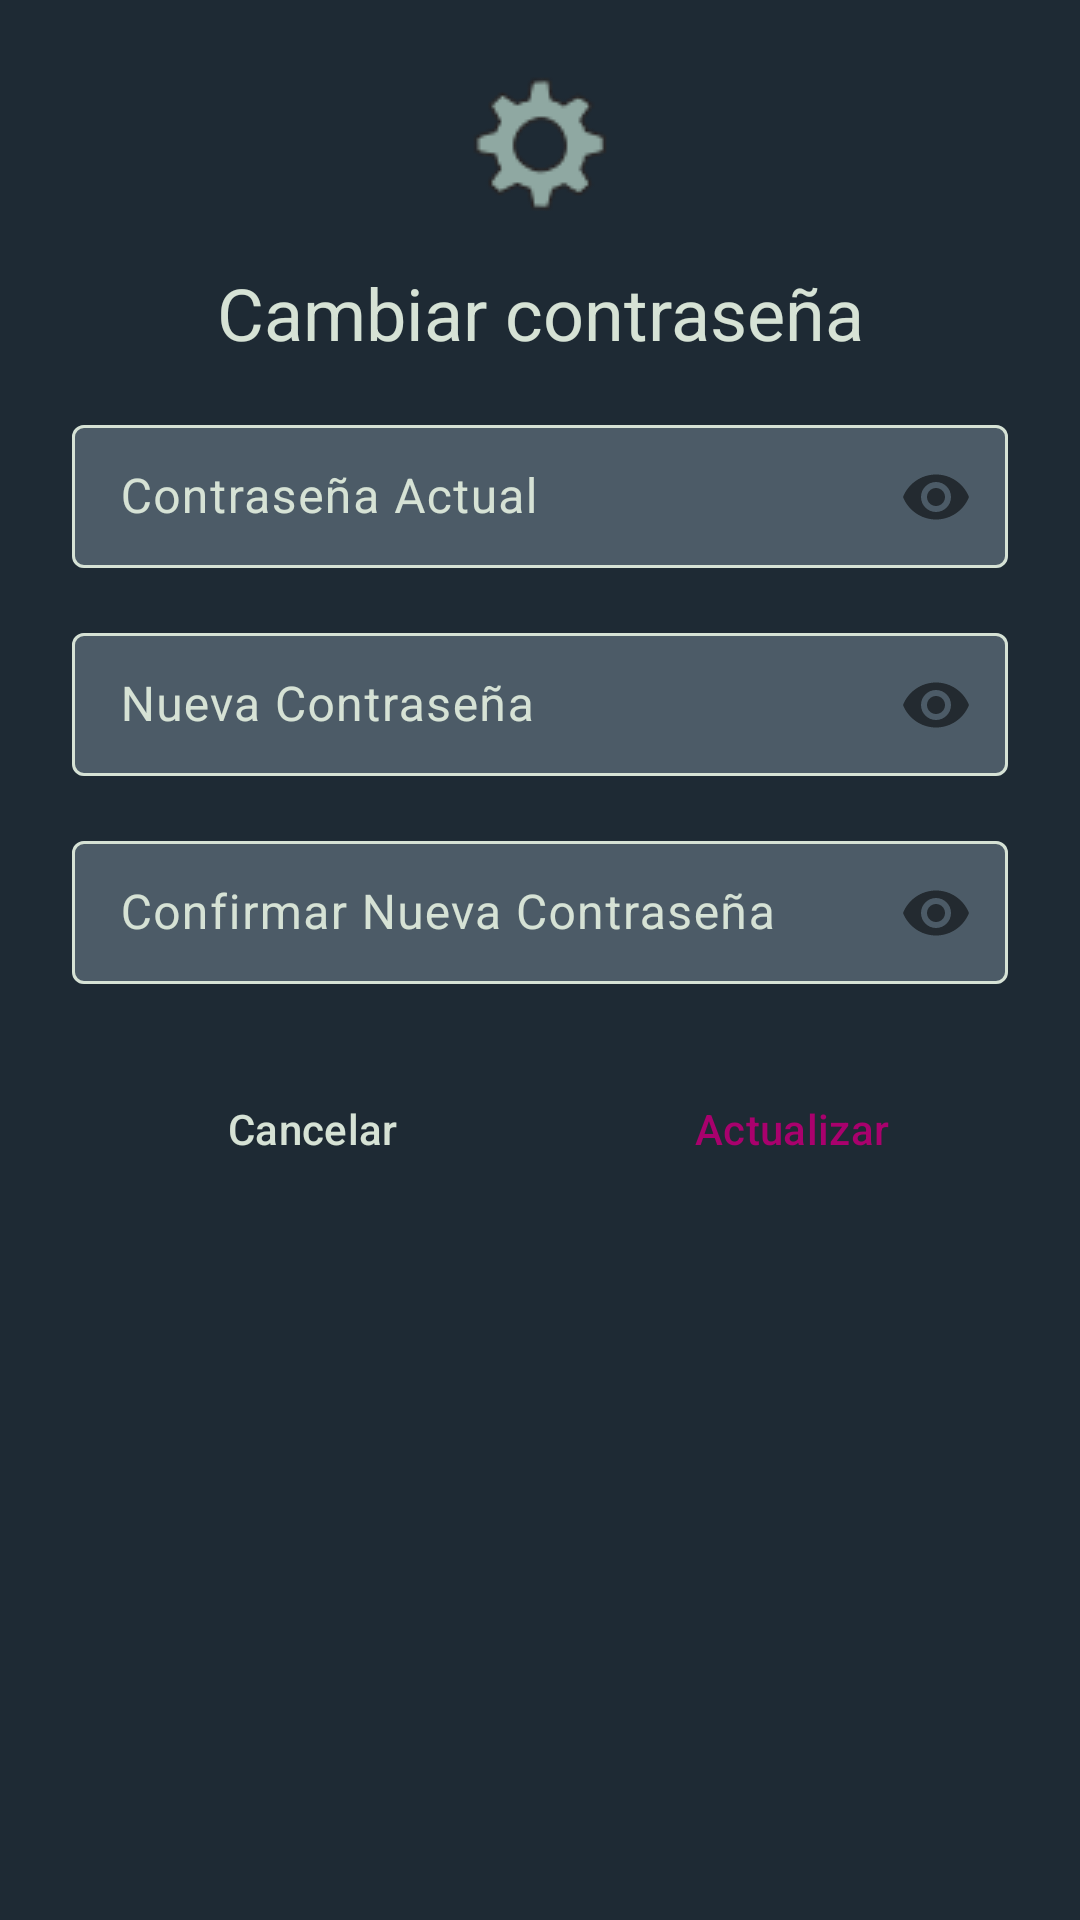

Screen size 1080 × 1920. Icon name, then its center in pixels as point (x, y):
settings: point (540, 144)
